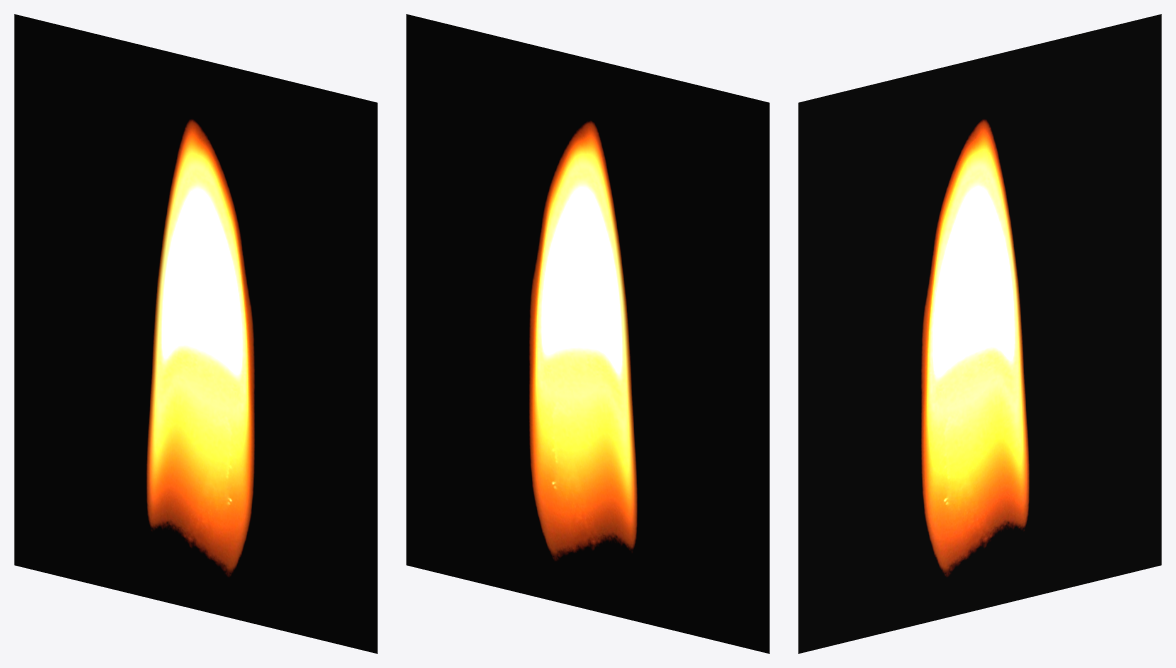
The model's file is candle_flame2011_9_Combined.fbx.
3 renders of one model, left to right at view 1: azimuth 30°, elevation 25°; view 2: azimuth 210°, elevation 25°; view 3: azimuth 270°, elevation 25°, orthographic.
Parts seen in each view (by area): view 1: candle_flame2011_9_Combined; view 2: candle_flame2011_9_Combined; view 3: candle_flame2011_9_Combined.
Boxes of the visible parts, x1,y1,x2,y2 form: candle_flame2011_9_Combined: (14,14,377,653); candle_flame2011_9_Combined: (406,14,769,653); candle_flame2011_9_Combined: (798,14,1161,653).
Bounding box in the file's own units: 3.45 × 10 × 5.98.
